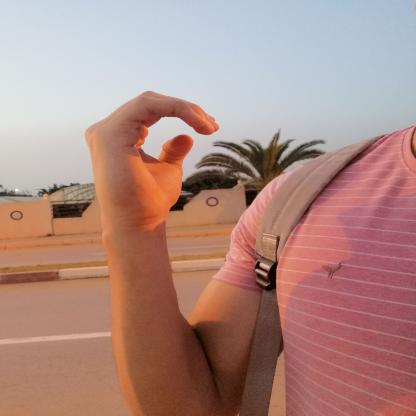JEEM: (72, 83, 230, 239)
